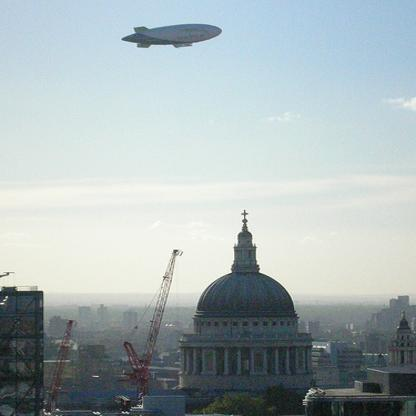Airship: (122, 23, 226, 54)
